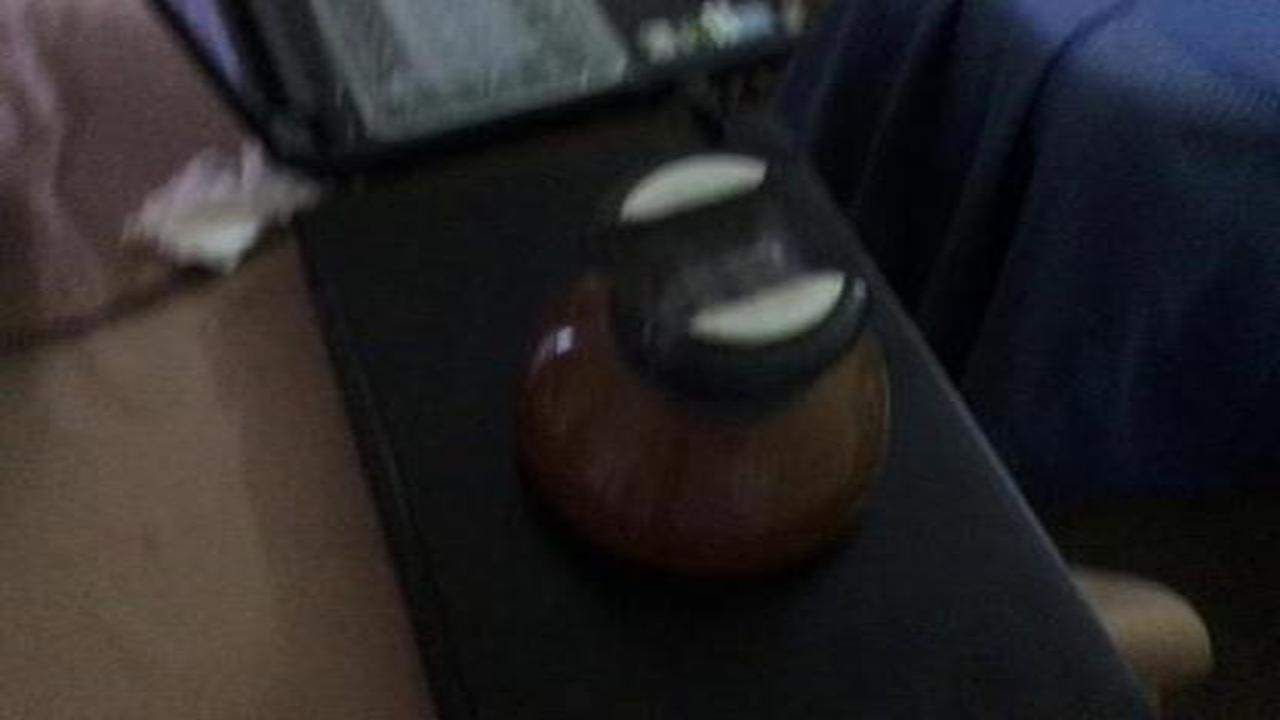insulator_pin: (500, 139, 905, 587)
